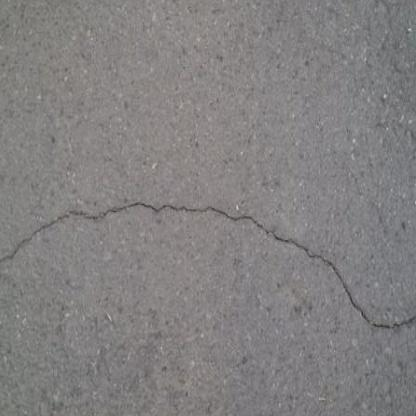Cracks: (0, 197, 416, 335)
